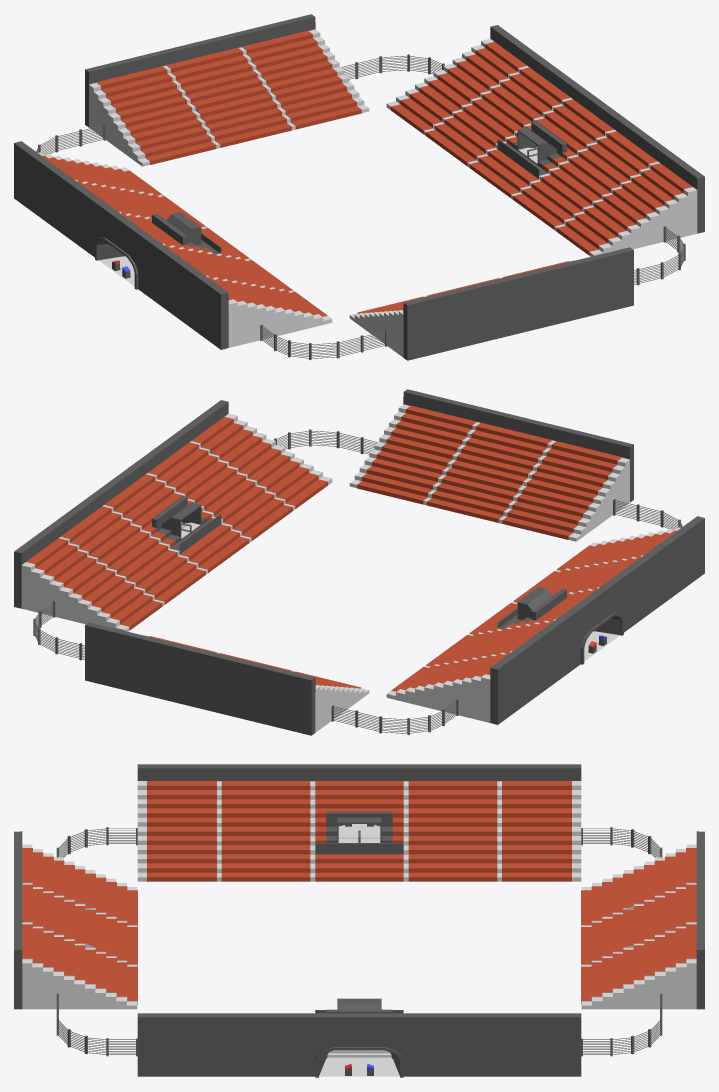
File: Estadio Escola.fbx
The picture shows the model from 3 angles, top to bottom: view 1: azimuth 30°, elevation 25°; view 2: azimuth 150°, elevation 25°; view 3: azimuth 270°, elevation 25°; orthographic projection. The views are drawn at different scales.
Parts seen in each view (by area): view 1: Estadio Simples Escola; view 2: Estadio Simples Escola; view 3: Estadio Simples Escola.
Part boxes in pixels (bbox=[...]): Estadio Simples Escola: bbox=[14, 14, 704, 360]; Estadio Simples Escola: bbox=[14, 389, 704, 735]; Estadio Simples Escola: bbox=[14, 764, 704, 1077].
Size of the model in its own units: 23661 by 20658 by 2255.
